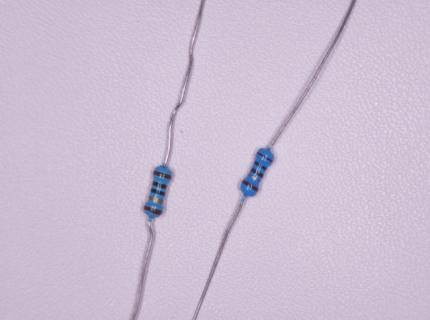Black band: (251, 168, 264, 178), (254, 161, 267, 171), (150, 188, 166, 196), (153, 181, 167, 190)
Brown band: (242, 180, 259, 192), (257, 152, 273, 163), (144, 206, 162, 215), (153, 171, 172, 179)
Gold band: (149, 196, 163, 204), (248, 174, 261, 182)
